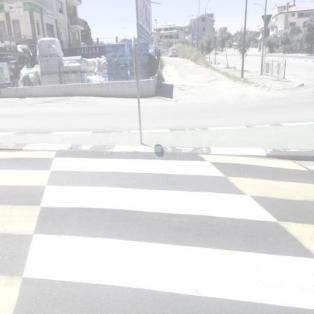Paso de Cebra: (38, 155, 280, 226)
